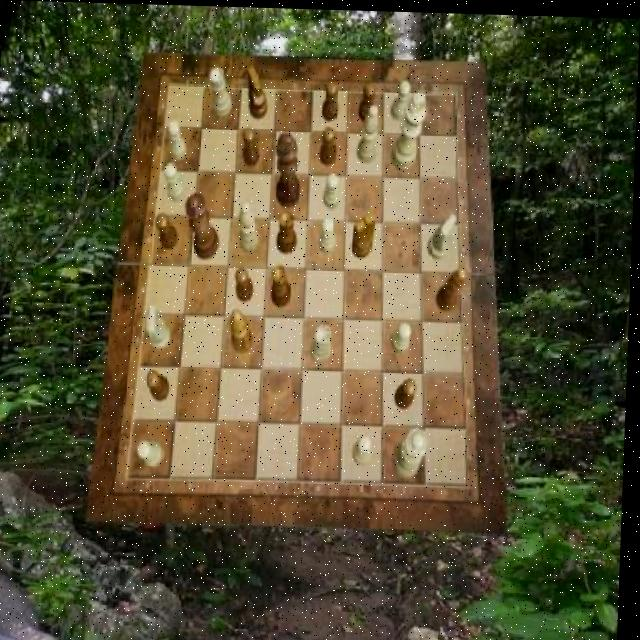bishop: (437, 263, 469, 309), (233, 307, 257, 352)
black-bishop: (276, 131, 305, 206)
black-king: (246, 64, 270, 117), (353, 210, 377, 256)
black-knight: (157, 213, 181, 248), (148, 368, 173, 400), (321, 124, 340, 163), (243, 126, 261, 166), (360, 81, 378, 121), (398, 376, 421, 407), (236, 266, 256, 301), (323, 80, 340, 120)
black-pawn: (186, 193, 224, 259)
black-queen: (277, 208, 300, 253), (274, 262, 296, 305)
black-rook: (359, 102, 380, 161), (240, 199, 263, 251)
white-bishop: (392, 89, 428, 170)
white-king: (430, 210, 459, 259), (149, 303, 175, 350)
white-knight: (165, 162, 189, 201), (168, 120, 189, 160), (392, 78, 412, 119), (141, 439, 167, 466), (356, 432, 377, 463), (393, 320, 414, 351), (320, 216, 338, 252), (325, 172, 343, 207)
white-pawn: (396, 423, 433, 477)
white-queen: (209, 66, 234, 116), (313, 323, 335, 362)
